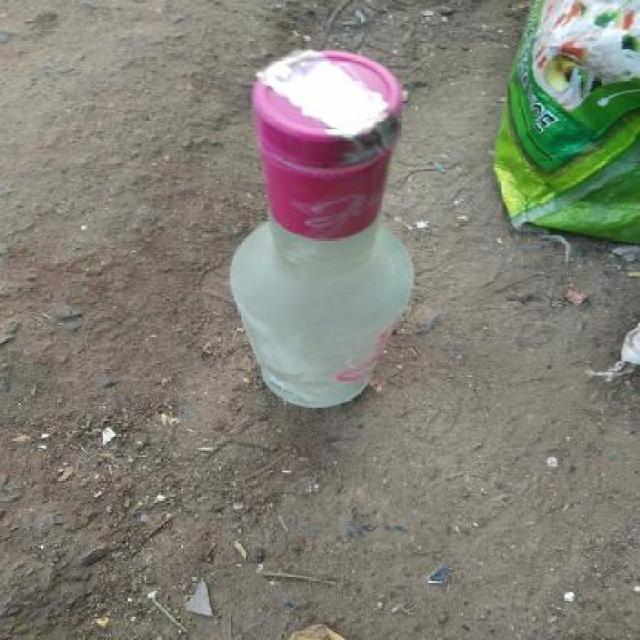garbage: (185, 42, 472, 495)
